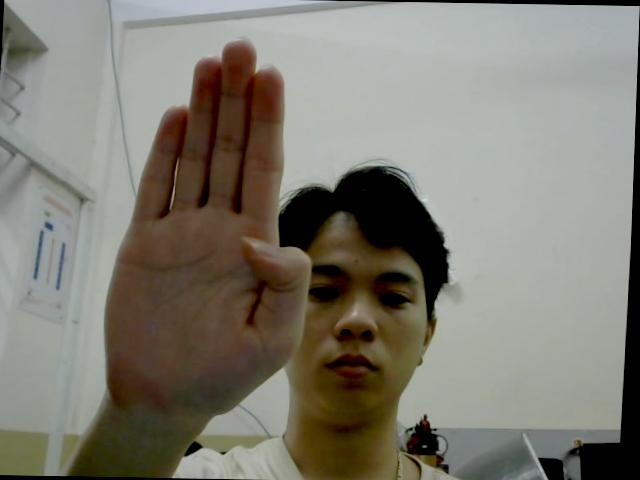B: (100, 33, 324, 424)
